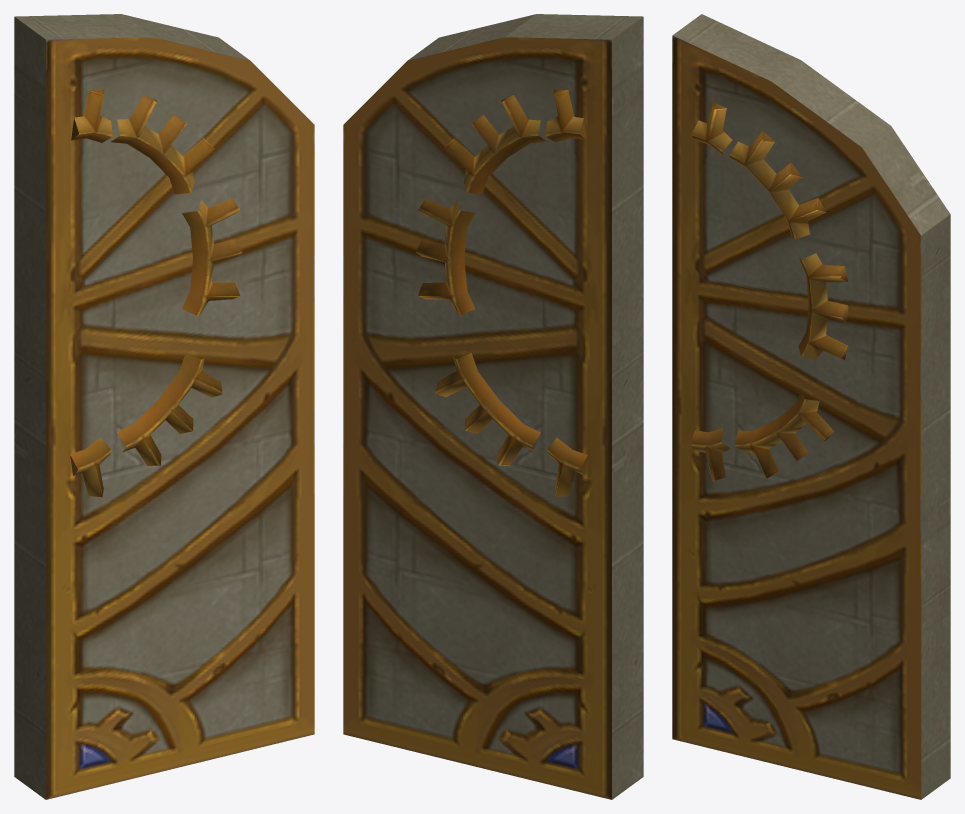
File: Battle03_Gate_01.FBX
3 renders of one model, left to right at view 1: azimuth 30°, elevation 25°; view 2: azimuth 150°, elevation 25°; view 3: azimuth 330°, elevation 25°, orthographic. The views are drawn at different scales.
Visible parts, largest first — view 1: Battle03_Gate_01_01, Battle03_Gate_01_02; view 2: Battle03_Gate_01_01, Battle03_Gate_01_02; view 3: Battle03_Gate_01_01, Battle03_Gate_01_02.
Boxes of the visible parts, <box> form: Battle03_Gate_01_01: <box>14,14,314,799</box>; Battle03_Gate_01_02: <box>70,89,242,497</box>; Battle03_Gate_01_01: <box>343,14,643,799</box>; Battle03_Gate_01_02: <box>416,89,587,496</box>; Battle03_Gate_01_01: <box>672,14,950,799</box>; Battle03_Gate_01_02: <box>690,102,848,481</box>.
Bounding box in the file's own units: 4.24 × 11.46 × 1.21.
